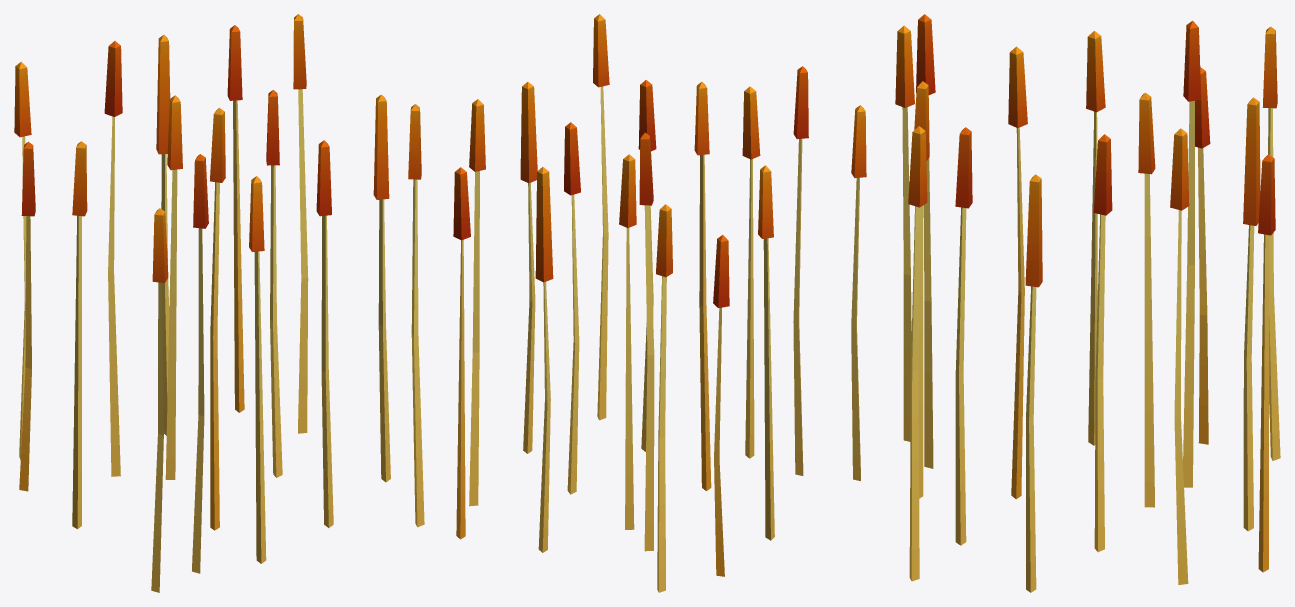
Rendered from Agricultural_Plant_5B.fbx.
3 renders of one model, left to right at view 1: azimuth 30°, elevation 25°; view 2: azimuth 150°, elevation 25°; view 3: azimuth 270°, elevation 25°, orthographic. The views are drawn at different scales.
Visible parts, largest first — view 1: Agricultural_Plant_5B; view 2: Agricultural_Plant_5B; view 3: Agricultural_Plant_5B.
Part boxes in pixels (x1,y1,x2,y2): Agricultural_Plant_5B: (14, 14, 424, 592); Agricultural_Plant_5B: (453, 14, 866, 592); Agricultural_Plant_5B: (895, 14, 1280, 592).
Size of the model in its own units: 88.54 by 123 by 92.32.
